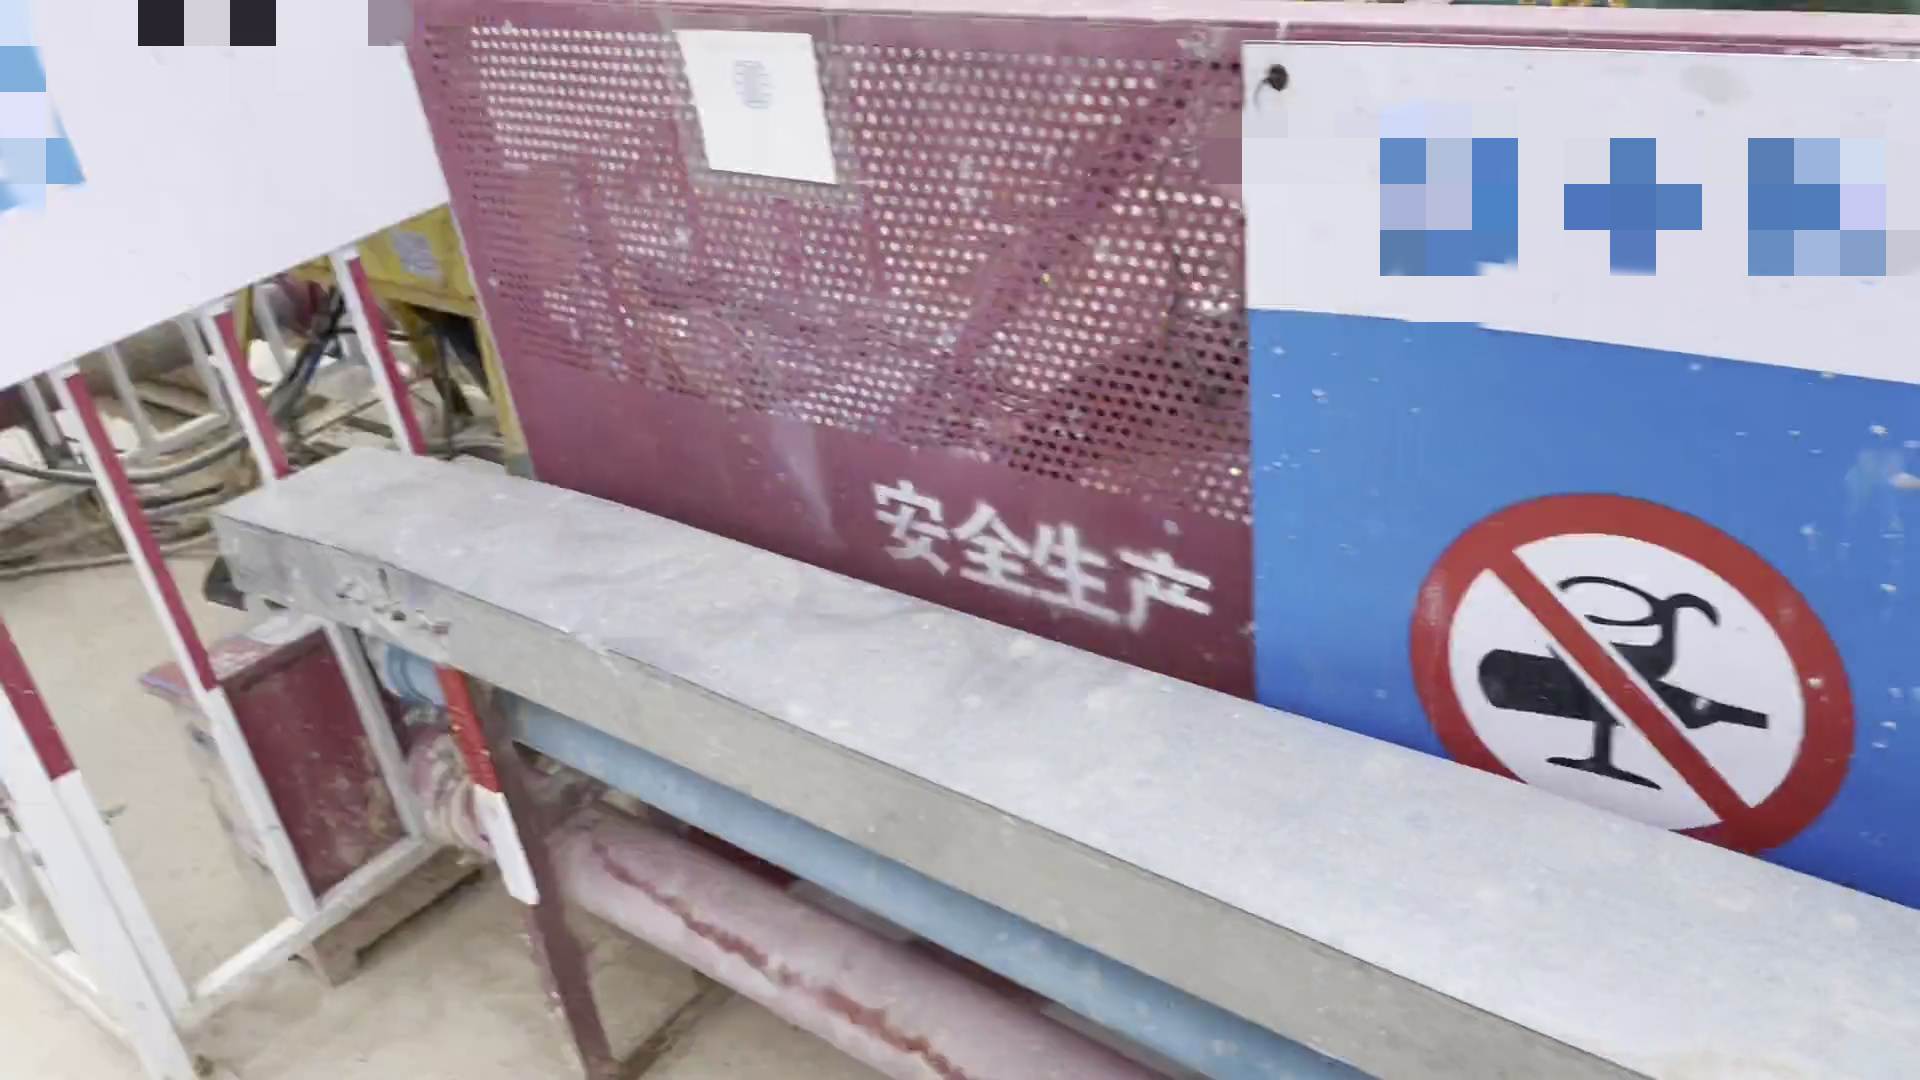fence: (377, 1, 1920, 942)
slogan: (1197, 30, 1920, 916)
